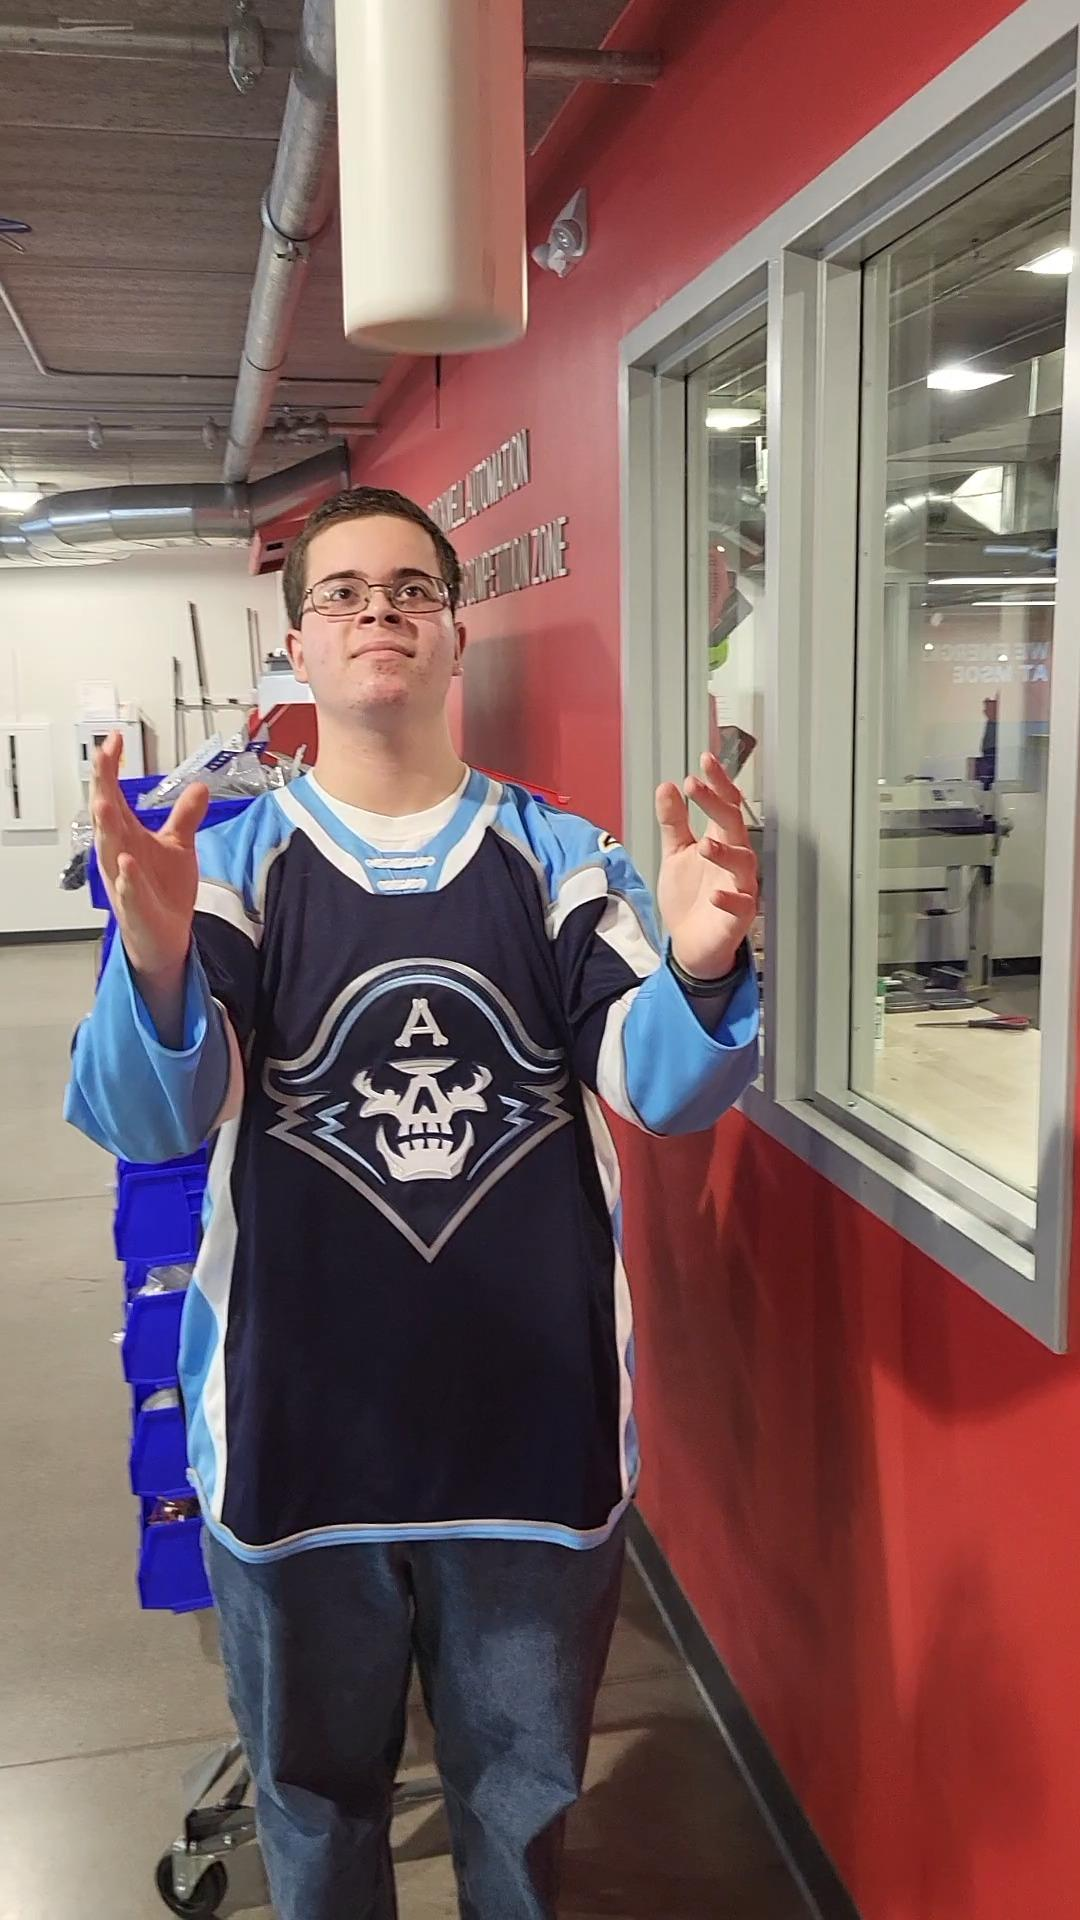coral: (316, 0, 537, 371)
